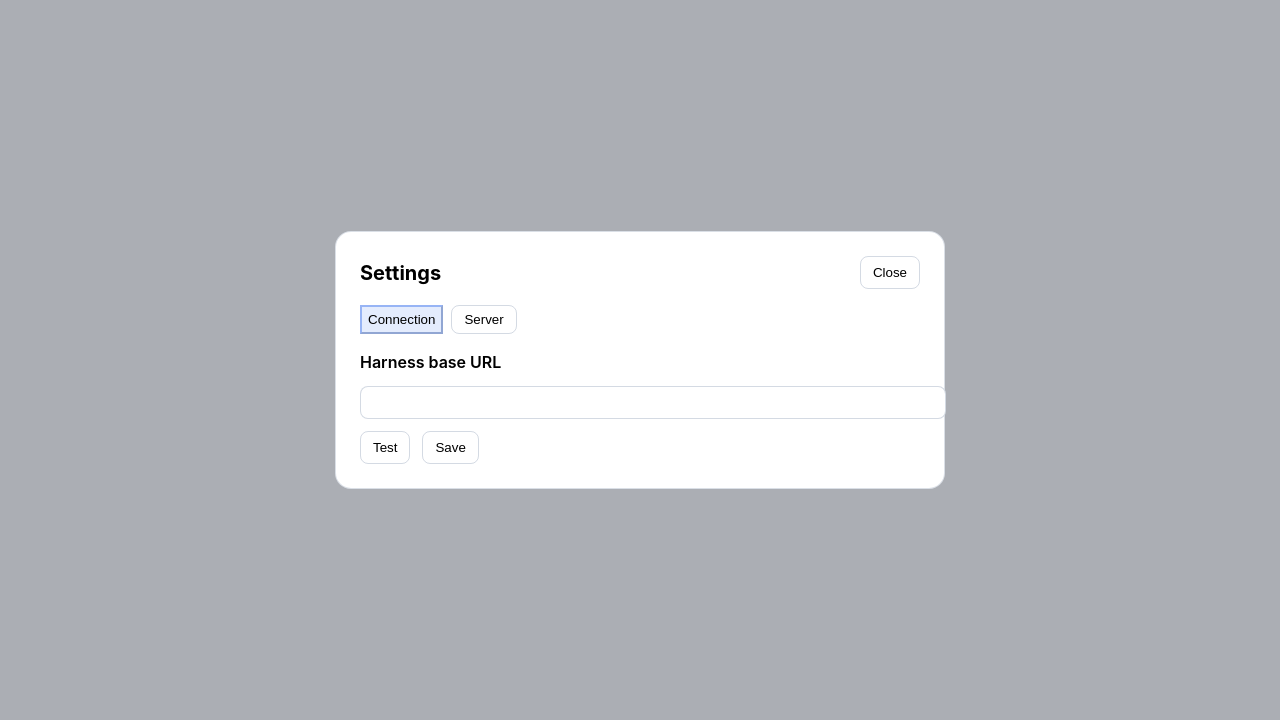
Scenario: SettingsDialog › tests the connection from the connection tab
The image size is (1280, 720).
Click the button with test id "test-connection-settings". click: (385, 447)
box: x1=360 y1=431 x2=410 y2=464
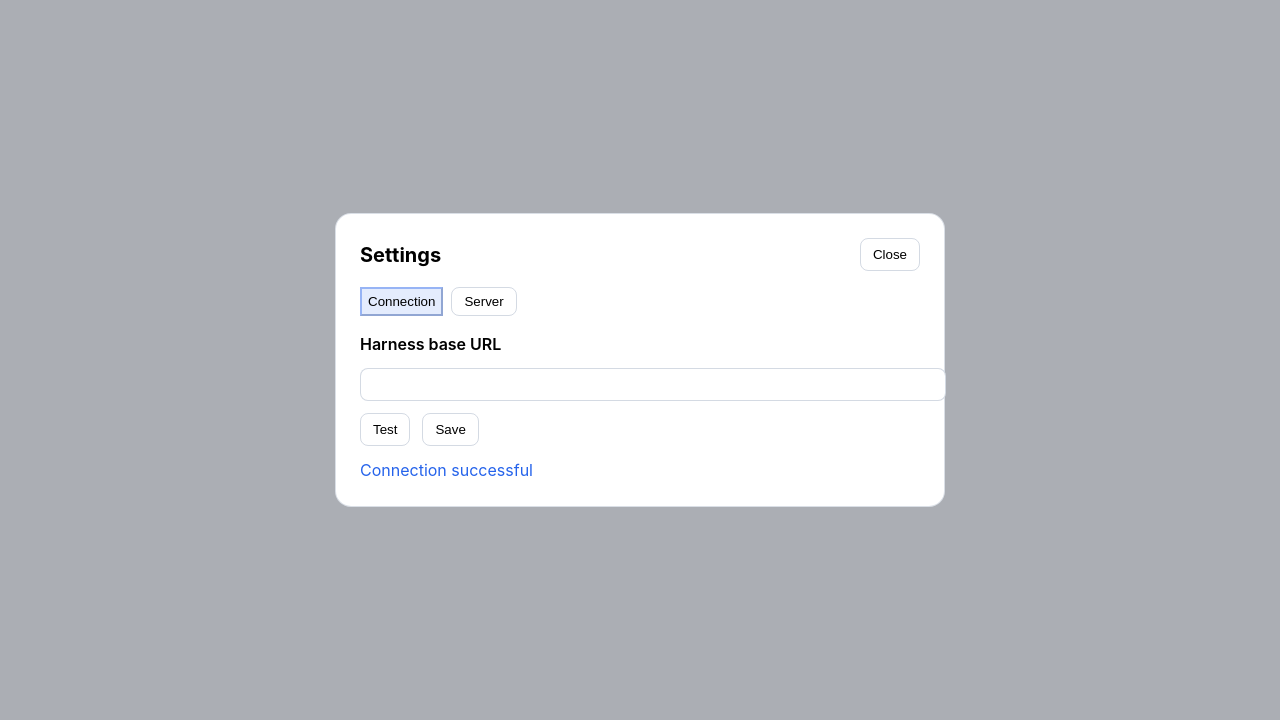
Now the text with test id "connection-status" reads "Connection successful", box x1=360 y1=460 x2=533 y2=480
